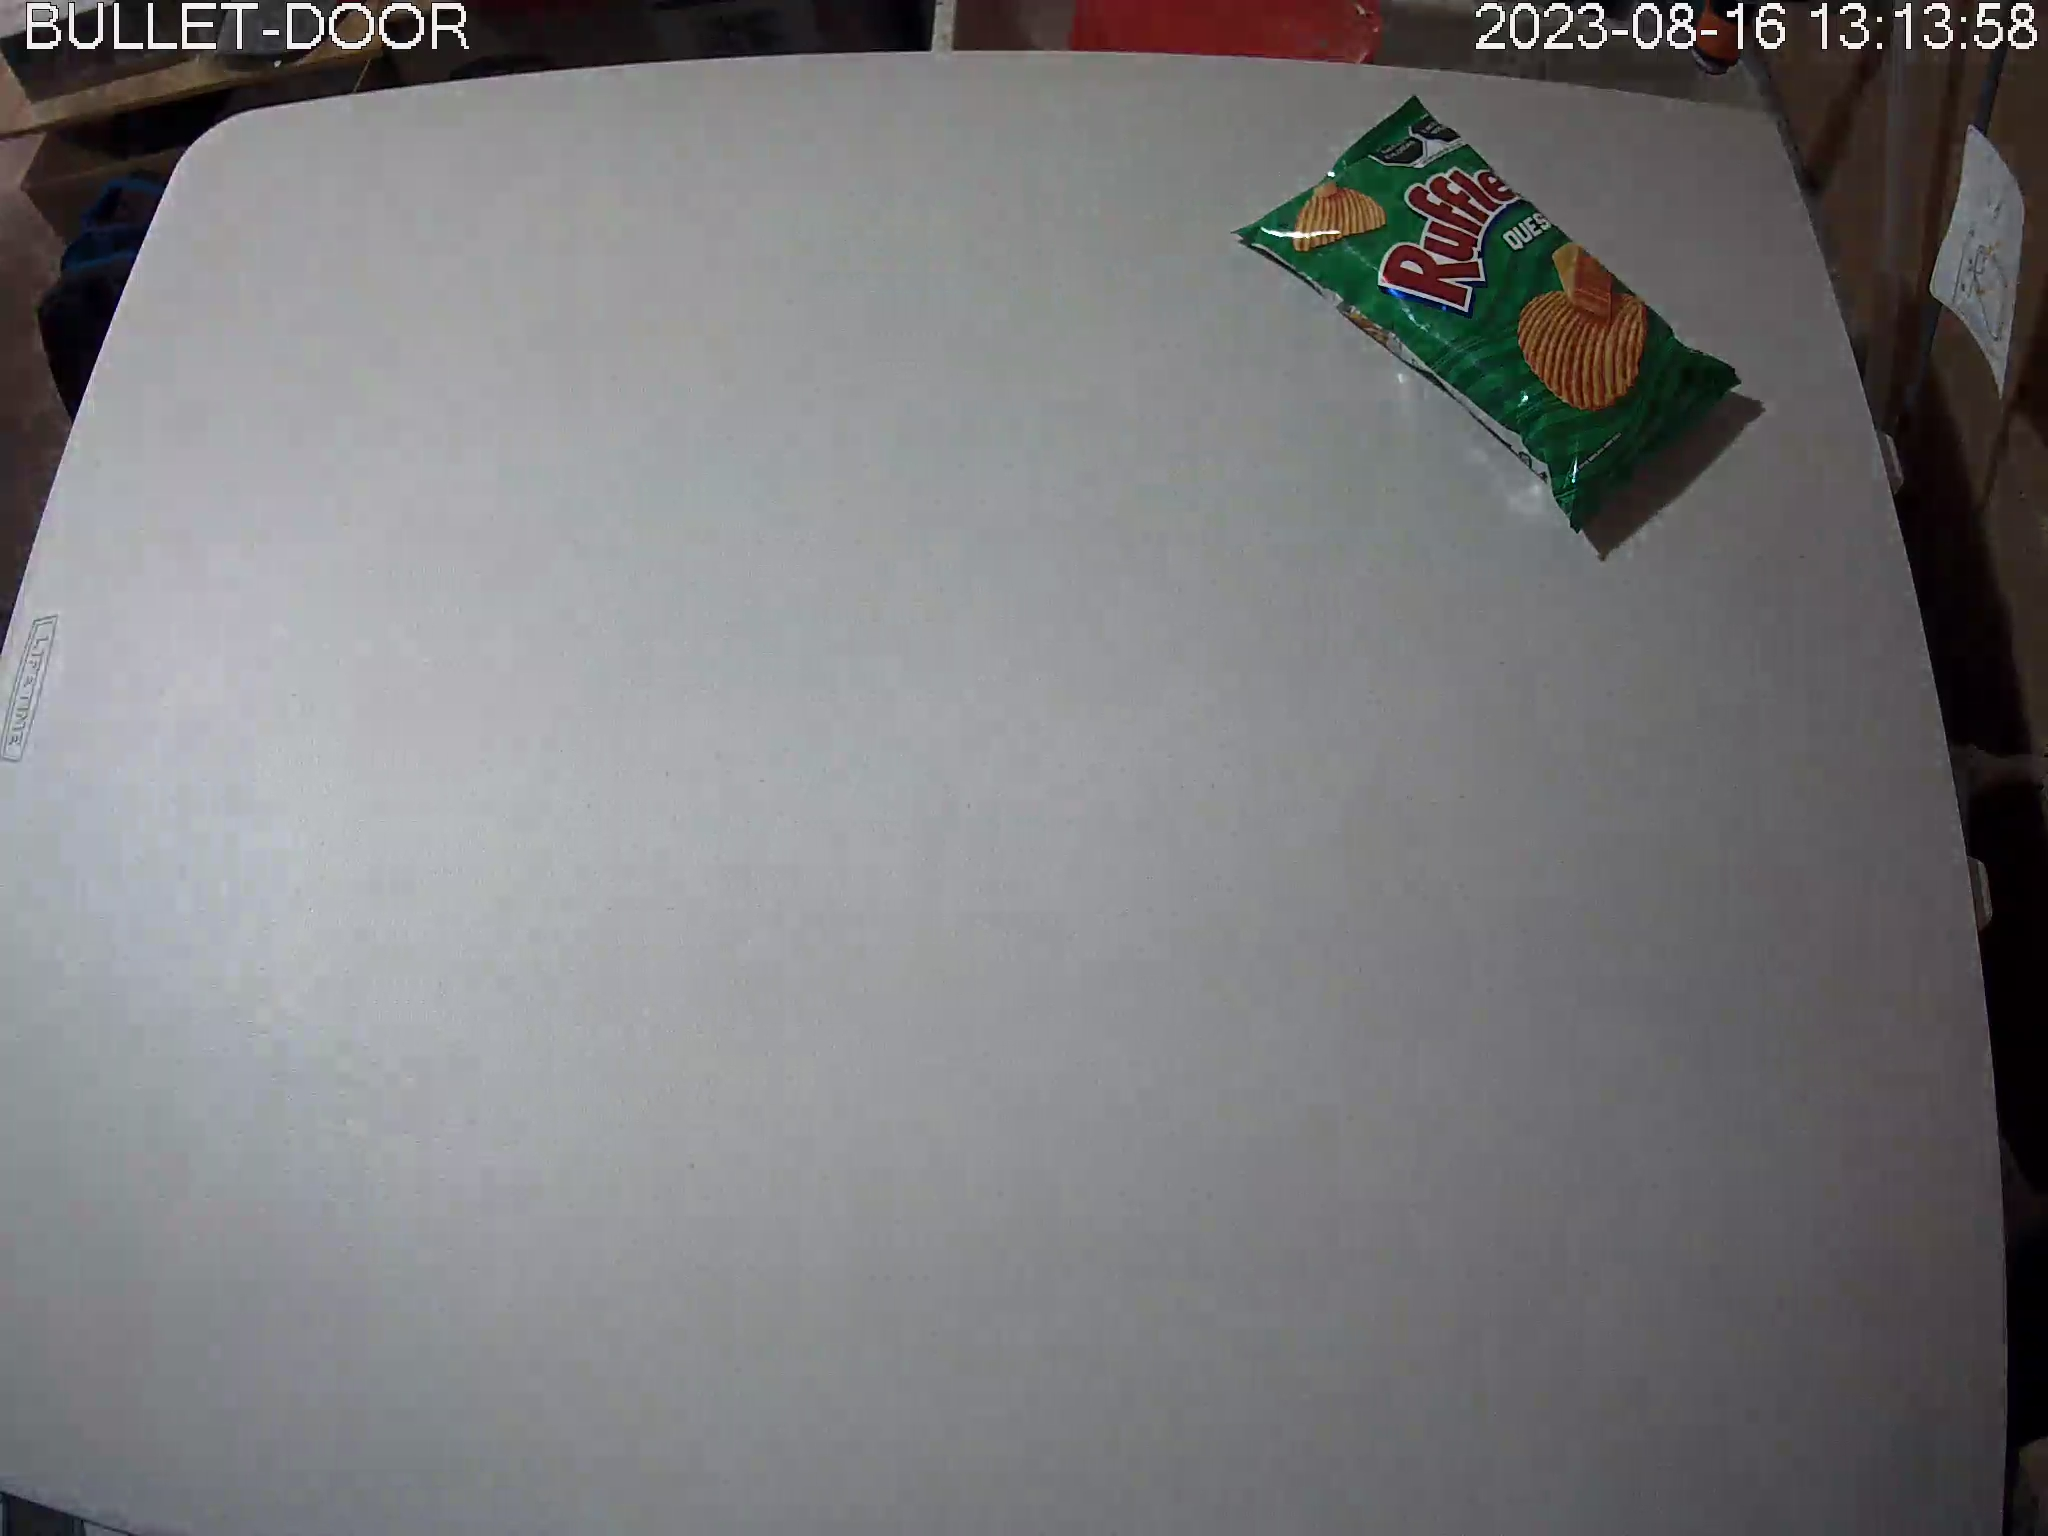RufflesQ_48_F: (1229, 94, 1743, 536)
